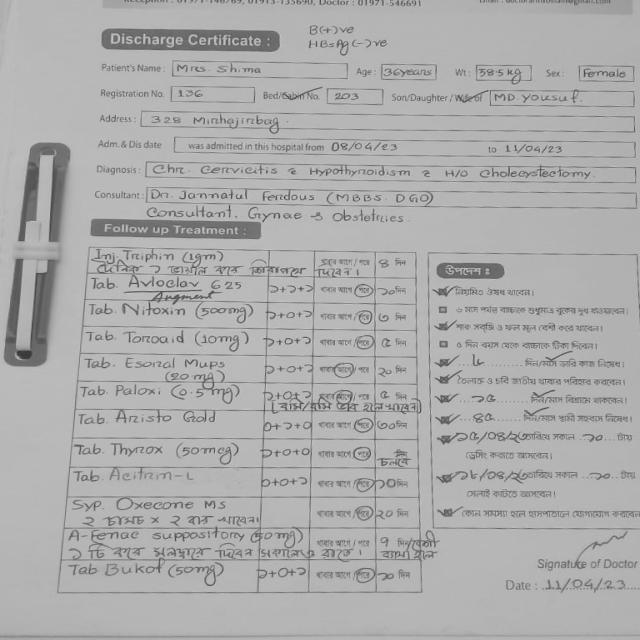medicine: (121, 354, 230, 374), (112, 407, 220, 427), (112, 496, 229, 514), (104, 466, 200, 486), (107, 439, 168, 462), (118, 300, 190, 319), (120, 328, 188, 348), (126, 274, 202, 291), (100, 560, 168, 578), (111, 382, 168, 400), (120, 248, 178, 264)
